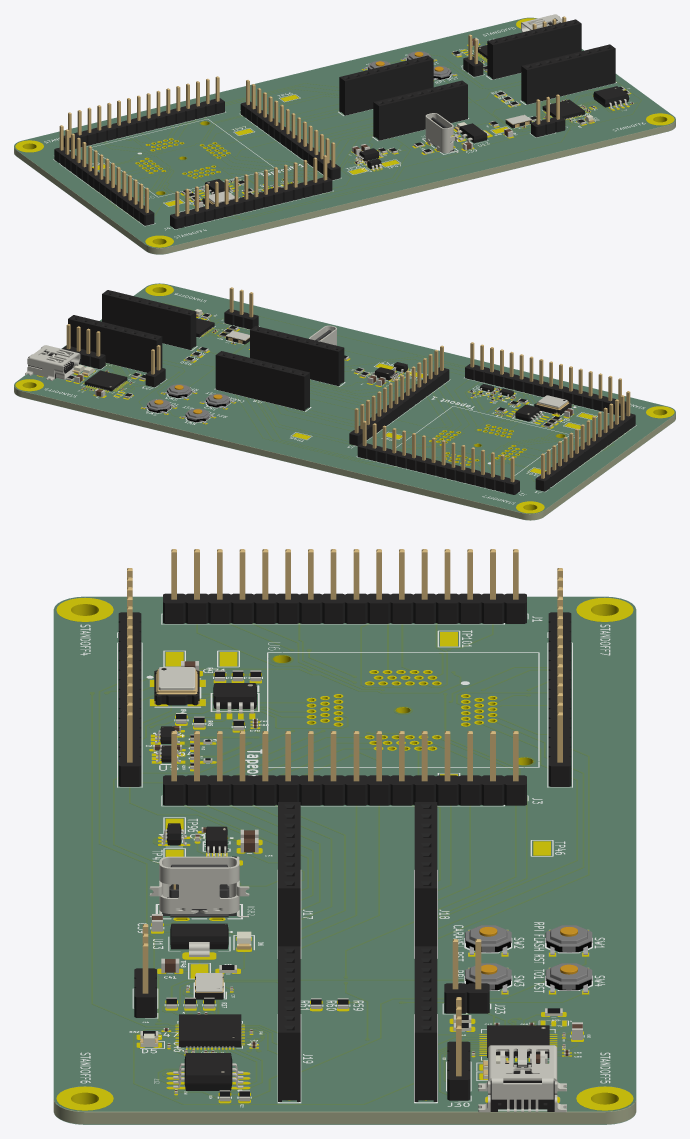
3 renders of one model, top to bottom at view 1: azimuth 30°, elevation 25°; view 2: azimuth 150°, elevation 25°; view 3: azimuth 270°, elevation 25°, orthographic. The views are drawn at different scales.
Visible parts, largest first — view 1: =>[0:1:1:30], =>[0:1:1:32], J4, J2, J19, J17, J18, J20, J1, J3, =>[0:1:1:28], =>[0:1:1:29] (+8 smaller); view 2: =>[0:1:1:30], =>[0:1:1:32], J2, J4, J18, =>[0:1:1:28], J19, J17, J1, J3, J20, =>[0:1:1:29] (+9 smaller); view 3: =>[0:1:1:30], =>[0:1:1:32], =>[0:1:1:28], J1, J3, =>[0:1:1:29], USB2, USB3, J2, J4, J20, J19 (+15 smaller).
Part boxes in pixels (left/top/right/bottom): =>[0:1:1:30]: left=14, top=17, right=675, bottom=248; =>[0:1:1:32]: left=14, top=18, right=675, bottom=254; J4: left=170, top=155, right=332, bottom=228; J2: left=63, top=76, right=224, bottom=150; J19: left=521, top=44, right=615, bottom=104; J17: left=373, top=80, right=467, bottom=140; J18: left=339, top=55, right=433, bottom=115; J20: left=487, top=19, right=581, bottom=79; J1: left=54, top=125, right=154, bottom=225; J3: left=240, top=80, right=340, bottom=180; =>[0:1:1:28]: left=15, top=18, right=674, bottom=247; =>[0:1:1:29]: left=44, top=27, right=645, bottom=238; =>[0:1:1:30]: left=14, top=283, right=675, bottom=513; =>[0:1:1:32]: left=14, top=284, right=675, bottom=520; J2: left=357, top=421, right=519, bottom=494; J4: left=465, top=342, right=626, bottom=415; J18: left=215, top=351, right=309, bottom=411; =>[0:1:1:28]: left=15, top=284, right=674, bottom=513; J19: left=102, top=290, right=196, bottom=349; J17: left=250, top=326, right=344, bottom=385; J1: left=535, top=391, right=635, bottom=491; J3: left=349, top=345, right=449, bottom=445; J20: left=68, top=315, right=162, bottom=372; =>[0:1:1:29]: left=44, top=293, right=645, bottom=504; =>[0:1:1:30]: left=53, top=596, right=636, bottom=1111; =>[0:1:1:32]: left=53, top=597, right=636, bottom=1124; =>[0:1:1:28]: left=56, top=598, right=633, bottom=1110; J1: left=163, top=549, right=526, bottom=623; J3: left=163, top=731, right=526, bottom=805; =>[0:1:1:29]: left=80, top=613, right=610, bottom=1110; USB2: left=149, top=856, right=249, bottom=917; USB3: left=478, top=1045, right=566, bottom=1112; J2: left=548, top=568, right=571, bottom=786; J4: left=118, top=568, right=141, bottom=786; J20: left=414, top=946, right=437, bottom=1101; J19: left=278, top=946, right=300, bottom=1101.
Size of the model in its own units: 0.1362 by 0.0116 by 0.065.
